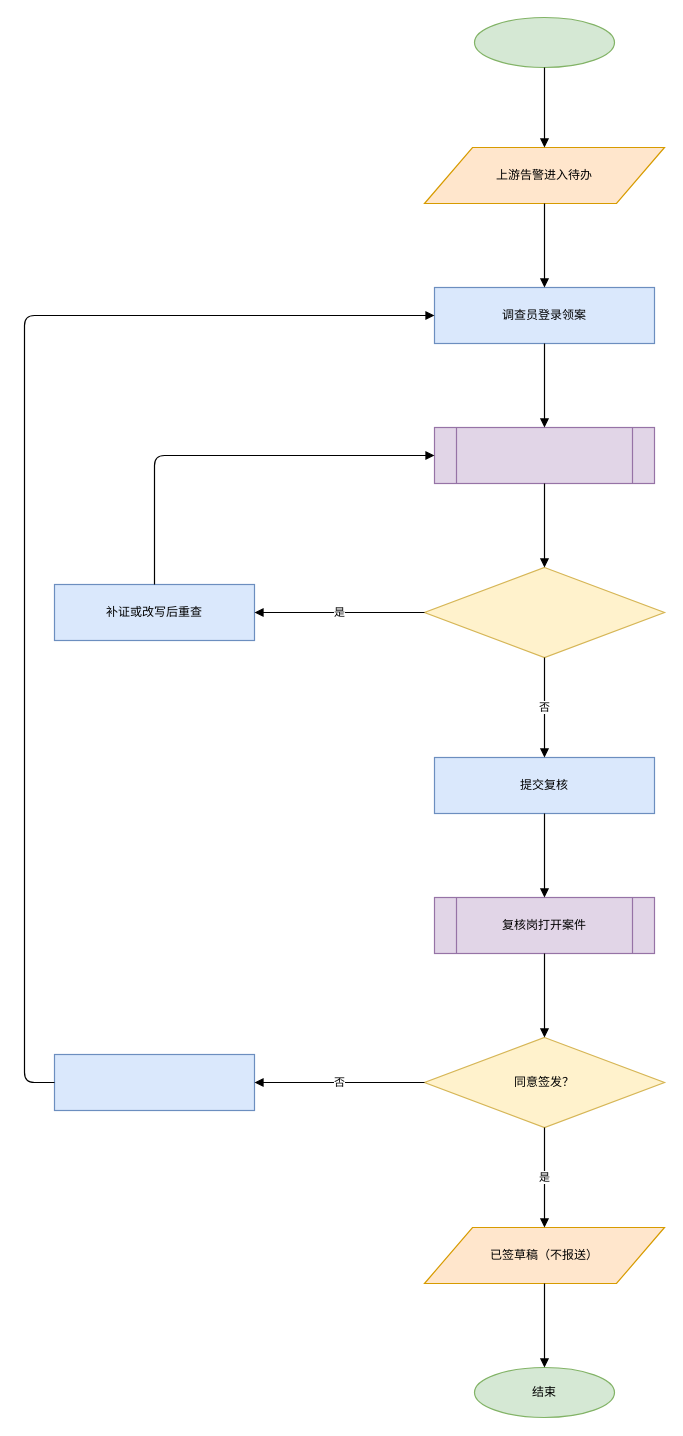
Some shapes in this 683 by 1436 pixel diagram are drawn without their labels. The centre of each missing label's shape, as x and y in pixels:
事实回查硬问题？: [544,612]
开始: [544,42]
执行调查编排: [544,455]
退回调查: [154,1082]
